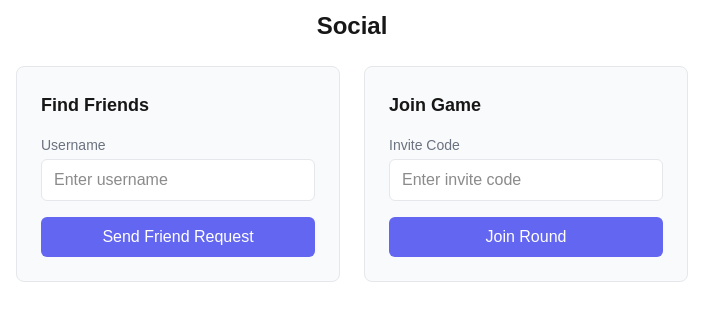
Scenario: SocialPage › shows error on friend request failure
Type "nobody" into the field labelled "Username" at (178, 180), box top-left (41, 159), bottom-right (315, 201)
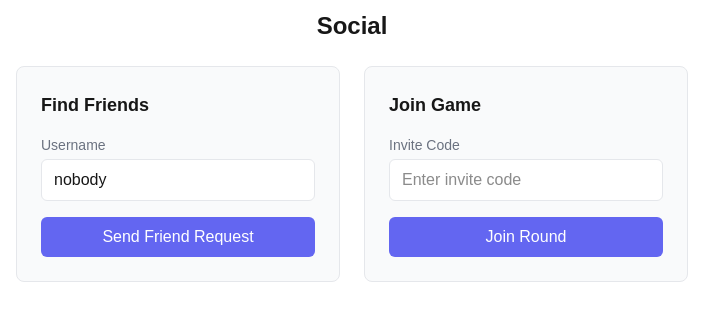
Click the button "Send Friend Request" at (178, 237), box top-left (41, 217), bottom-right (315, 257)
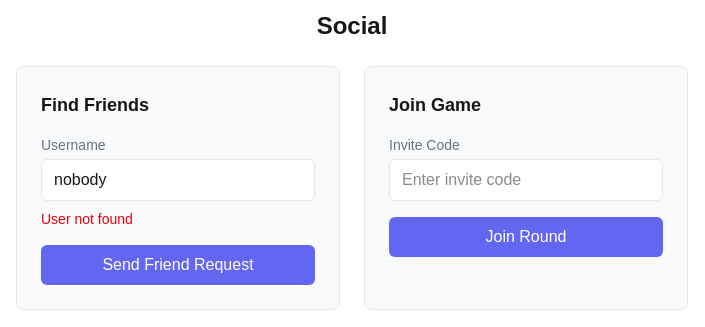
Check: the text "User not found" is shown, box top-left (41, 211), bottom-right (133, 227)
